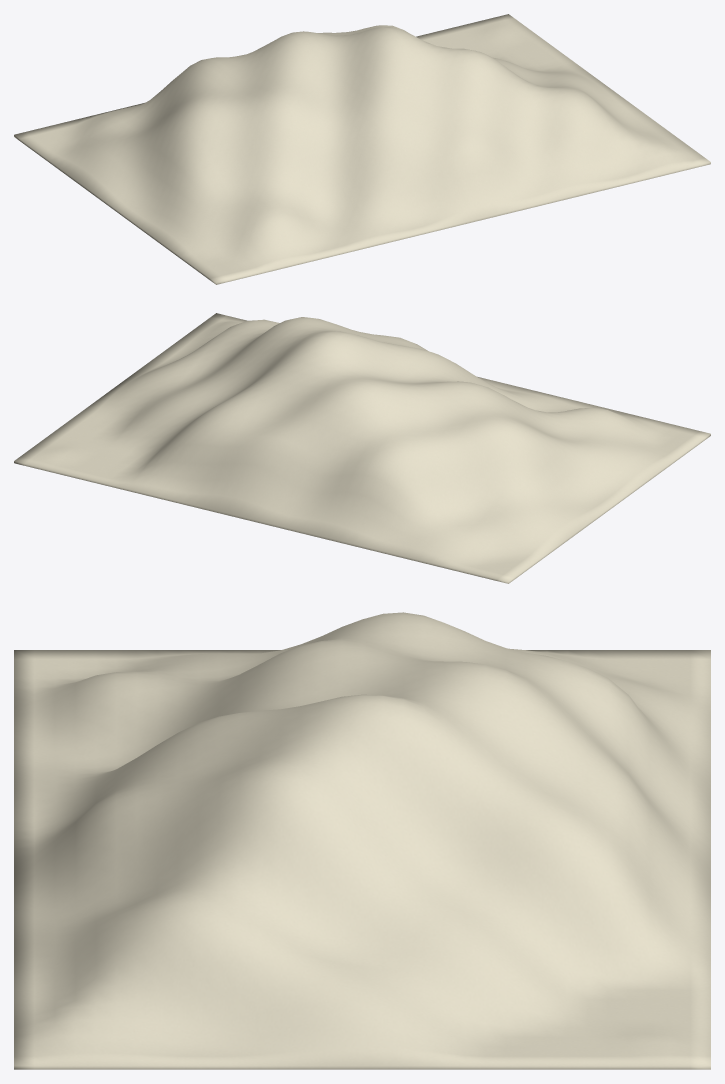
Rendered from PRP_Blanket_Crumpled.fbx.
The picture shows the model from 3 angles, top to bottom: view 1: azimuth 30°, elevation 25°; view 2: azimuth 150°, elevation 25°; view 3: azimuth 270°, elevation 25°; orthographic projection. The views are drawn at different scales.
Parts seen in each view (by area): view 1: PRP_Blanket_Crumpled; view 2: PRP_Blanket_Crumpled; view 3: PRP_Blanket_Crumpled.
Part boxes in pixels (x1=…): PRP_Blanket_Crumpled: x1=14, y1=14, x2=710, y2=284; PRP_Blanket_Crumpled: x1=14, y1=313, x2=710, y2=583; PRP_Blanket_Crumpled: x1=14, y1=612, x2=710, y2=1069.
Bounding box in the file's own units: 120 × 25.09 × 85.
